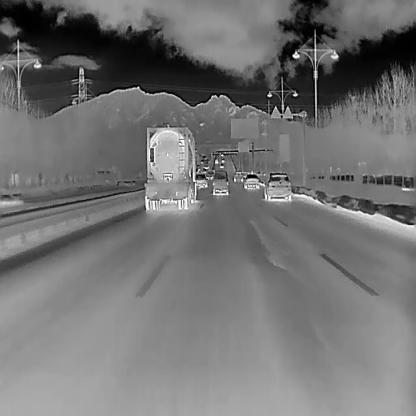car: (263, 172, 291, 200), (212, 169, 228, 195), (242, 173, 258, 188), (195, 172, 207, 188), (233, 170, 242, 182), (219, 162, 224, 168), (221, 158, 226, 164), (202, 154, 206, 160), (202, 167, 206, 173), (214, 158, 218, 164)
truck: (143, 124, 197, 210)
